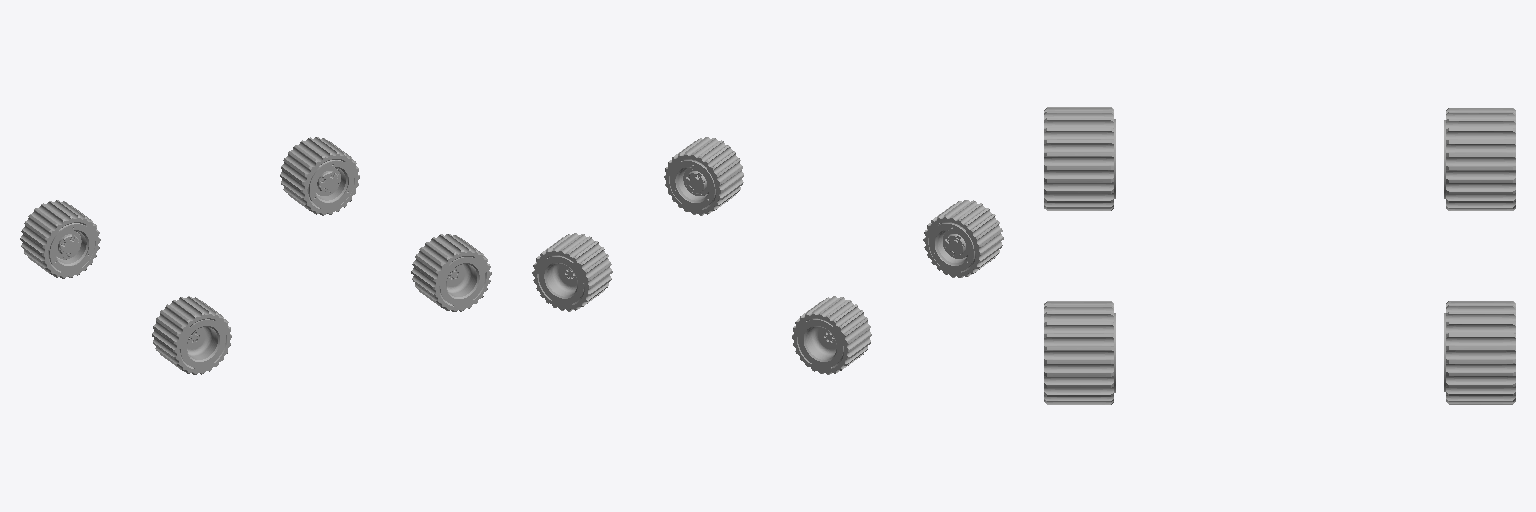
The robot description file, URDF, robot "Assembly":
<?xml version="1.0" ?>
<!-- =================================================================================== -->
<!-- |    This document was autogenerated by xacro from Assembly.xacro                 | -->
<!-- |    EDITING THIS FILE BY HAND IS NOT RECOMMENDED                                 | -->
<!-- =================================================================================== -->
<robot name="Assembly">
  <link name="base_footprint" />
  <joint name="base_footprint_joint" type="fixed">
    <parent link="base_footprint"/>
    <child link="base_link"/>
    <!-- To przesunięcie mówi Gazebo: "base_link jest 18cm nad ziemią" -->
    <origin xyz="0 0 0.18" rpy="0 0 0"/> 
  </joint>
  <material name="silver">
    <color rgba="0.700 0.700 0.700 1.000"/>
  </material>
  <transmission name="Obrot_1_tran">
    <type>transmission_interface/SimpleTransmission</type>
    <joint name="Obrot_1">
      <hardwareInterface>hardware_interface/EffortJointInterface</hardwareInterface>
    </joint>
    <actuator name="Obrot_1_actr">
      <hardwareInterface>hardware_interface/EffortJointInterface</hardwareInterface>
      <mechanicalReduction>1</mechanicalReduction>
    </actuator>
  </transmission>
  <transmission name="Obrot_2_tran">
    <type>transmission_interface/SimpleTransmission</type>
    <joint name="Obrot_2">
      <hardwareInterface>hardware_interface/EffortJointInterface</hardwareInterface>
    </joint>
    <actuator name="Obrot_2_actr">
      <hardwareInterface>hardware_interface/EffortJointInterface</hardwareInterface>
      <mechanicalReduction>1</mechanicalReduction>
    </actuator>
  </transmission>
  <transmission name="Obrot_3_tran">
    <type>transmission_interface/SimpleTransmission</type>
    <joint name="Obrot_3">
      <hardwareInterface>hardware_interface/EffortJointInterface</hardwareInterface>
    </joint>
    <actuator name="Obrot_3_actr">
      <hardwareInterface>hardware_interface/EffortJointInterface</hardwareInterface>
      <mechanicalReduction>1</mechanicalReduction>
    </actuator>
  </transmission>
  <transmission name="Obrot_4_tran">
    <type>transmission_interface/SimpleTransmission</type>
    <joint name="Obrot_4">
      <hardwareInterface>hardware_interface/EffortJointInterface</hardwareInterface>
    </joint>
    <actuator name="Obrot_4_actr">
      <hardwareInterface>hardware_interface/EffortJointInterface</hardwareInterface>
      <mechanicalReduction>1</mechanicalReduction>
    </actuator>
  </transmission>
  <!-- ===<gazebo>
    <plugin filename="libgazebo_ros_control.so" name="control"/>
  </gazebo>================================================================================ -->
  <gazebo reference="base_link">
    <material>Gazebo/Silver</material>
    <mu1>0.2</mu1>
    <mu2>0.2</mu2>
    <selfCollide>false</selfCollide>
    <gravity>true</gravity>
  </gazebo>
  <gazebo reference="Komponent390_1">
    <material>Gazebo/DarkGrey</material>
    <mu1>1.0</mu1>
    <mu2>0.1</mu2>
    <fdir1>1 0 0</fdir1> 
    <kp>10000000.0</kp>
    <kd>1.0</kd>
    <minDepth>0.001</minDepth>
    <maxVel>0.1</maxVel>
    <selfCollide>false</selfCollide>
  </gazebo>
  <gazebo reference="Komponent387_1">
    <material>Gazebo/DarkGrey</material>
    <mu1>1.0</mu1>
    <mu2>0.1</mu2>
    <fdir1>1 0 0</fdir1> 
    <kp>10000000.0</kp>
    <kd>1.0</kd>
    <minDepth>0.001</minDepth>
    <maxVel>0.1</maxVel>
    <selfCollide>false</selfCollide>
  </gazebo>
  <gazebo reference="Komponent388_1">
    <material>Gazebo/DarkGrey</material>
    <mu1>1.0</mu1>
    <mu2>0.1</mu2>
    <fdir1>1 0 0</fdir1> 
    <kp>10000000.0</kp>
    <kd>1.0</kd>
    <minDepth>0.001</minDepth>
    <maxVel>0.1</maxVel>
    <selfCollide>false</selfCollide>
  </gazebo>
  <gazebo reference="Komponent389_1">
    <material>Gazebo/DarkGrey</material>
    <mu1>1.0</mu1>
    <mu2>0.1</mu2>
    <fdir1>1 0 0</fdir1> 
    <kp>10000000.0</kp>
    <kd>1.0</kd>
    <minDepth>0.001</minDepth>
    <maxVel>0.1</maxVel>
    <selfCollide>false</selfCollide>
  </gazebo>
  <link name="base_link">
    <inertial>
      <origin rpy="0 0 0" xyz="0.0013626883253200508 8.361136291997719e-05 0.09570081394757393"/>
      <mass value="10.146617382602876"/>
      <inertia ixx="1.038602" ixy="0.063507" ixz="-0.0094" iyy="1.05519" iyz="-0.001771" izz="1.717662"/>
    </inertial>
    <visual>
      <origin rpy="0 0 0" xyz="0 0 0"/>
      <geometry>
        <mesh filename="package://assembly_description/meshes/base_link.stl" scale="0.001 0.001 0.001"/>
      </geometry>
      <material name="silver"/>
    </visual>
    <collision>
      <origin rpy="0 0 0" xyz="0 0 0.1"/>
      <geometry>
        <box size="0.9 0.5 0.2"/>
      </geometry>
    </collision>
  </link>
  <link name="Komponent390_1">
    <inertial>
      <origin rpy="0 0 0" xyz="1.7396688488102718e-06 0.07158422548093257 -3.680155703067456e-06"/>
      <mass value="3.509196383820251"/>
      <inertia ixx="0.015316" ixy="1e-06" ixz="0.0" iyy="0.020222" iyz="-1e-06" izz="0.015316"/>
    </inertial>
    <visual>
      <origin rpy="0 0 0" xyz="-0.462407 -0.333391 0.181736"/>
      <geometry>
        <mesh filename="package://assembly_description/meshes/Komponent390_1.stl" scale="0.001 0.001 0.001"/>
      </geometry>
      <material name="silver"/>
    </visual>
    <collision>
      <origin rpy="0 0 0" xyz="0 0 0"/>
      <geometry>
        <sphere radius="0.1"/>
      </geometry>
    </collision>
  </link>
  <link name="Komponent387_1">
    <inertial>
      <origin rpy="0 0 0" xyz="-2.5653229020483614e-06 -0.07158405235834175 -3.5042770395177225e-06"/>
      <mass value="3.50919641521173"/>
      <inertia ixx="0.015316" ixy="1e-06" ixz="-0.0" iyy="0.020222" iyz="1e-06" izz="0.015316"/>
    </inertial>
    <visual>
      <origin rpy="0 0 0" xyz="-0.461782 0.330009 0.182625"/>
      <geometry>
        <mesh filename="package://assembly_description/meshes/Komponent387_1.stl" scale="0.001 0.001 0.001"/>
      </geometry>
      <material name="silver"/>
    </visual>
    <collision>
      <origin rpy="0 0 0" xyz="0 0 0"/>
      <geometry>
	<sphere radius="0.1"/>
      </geometry>
    </collision>
  </link>
  <link name="Komponent388_1">
    <inertial>
      <origin rpy="0 0 0" xyz="2.521271106392664e-06 0.07158422285030919 -3.6801312563450317e-06"/>
      <mass value="3.509196938643843"/>
      <inertia ixx="0.015316" ixy="1e-06" ixz="0.0" iyy="0.020223" iyz="-1e-06" izz="0.015316"/>
    </inertial>
    <visual>
      <origin rpy="0 0 0" xyz="0.460769 -0.333391 0.181736"/>
      <geometry>
        <mesh filename="package://assembly_description/meshes/Komponent388_1.stl" scale="0.001 0.001 0.001"/>
      </geometry>
      <material name="silver"/>
    </visual>
    <collision>
      <origin rpy="0 0 0" xyz="0 0 0"/>
      <geometry>
	<sphere radius="0.1"/>
      </geometry>
    </collision>
  </link>
  <link name="Komponent389_1">
    <inertial>
      <origin rpy="0 0 0" xyz="-2.069141749050374e-06 -0.07158405236339799 -3.6457523256427926e-06"/>
      <mass value="3.509196414812441"/>
      <inertia ixx="0.015316" ixy="1e-06" ixz="-0.0" iyy="0.020222" iyz="1e-06" izz="0.015316"/>
    </inertial>
    <visual>
      <origin rpy="0 0 0" xyz="0.461392 0.330009 0.180846"/>
      <geometry>
        <mesh filename="package://assembly_description/meshes/Komponent389_1.stl" scale="0.001 0.001 0.001"/>
      </geometry>
      <material name="silver"/>
    </visual>
    <collision>
      <origin rpy="0 0 0" xyz="0 0 0"/>
      <geometry>
	<sphere radius="0.1"/>
      </geometry>
    </collision>
  </link>
  <joint name="Obrot_1" type="continuous">
    <origin rpy="0 0 0" xyz="0.462407 0.333391 -0.181736"/>
    <parent link="base_link"/>
    <child link="Komponent390_1"/>
    <axis xyz="0.0 1.0 0.0"/>
  </joint>
  <joint name="Obrot_2" type="continuous">
    <origin rpy="0 0 0" xyz="0.461782 -0.330009 -0.182625"/>
    <parent link="base_link"/>
    <child link="Komponent387_1"/>
    <axis xyz="-0.0 1.0 -0.0"/>
  </joint>
  <joint name="Obrot_3" type="continuous">
    <origin rpy="0 0 0" xyz="-0.460769 0.333391 -0.181736"/>
    <parent link="base_link"/>
    <child link="Komponent388_1"/>
    <axis xyz="0.0 1.0 -0.0"/>
  </joint>
  <joint name="Obrot_4" type="continuous">
    <origin rpy="0 0 0" xyz="-0.461392 -0.330009 -0.180846"/>
    <parent link="base_link"/>
    <child link="Komponent389_1"/>
    <axis xyz="-0.0 1.0 0.0"/>
  </joint>
  <gazebo>
    <plugin filename="libignition-gazebo-diff-drive-system.so" name="ignition::gazebo::systems::DiffDrive">
      <left_joint>Obrot_1</left_joint>
      <left_joint>Obrot_3</left_joint>
      <right_joint>Obrot_2</right_joint>
      <right_joint>Obrot_4</right_joint>
      
      <wheel_separation>0.663</wheel_separation>
      <wheel_radius>0.1</wheel_radius> 
      <odom_publish_frequency>30</odom_publish_frequency>
      <topic>/cmd_vel</topic>
    </plugin>
  </gazebo>
</robot>

--- Render facts (derived) ---
Views: 3 orthographic renders of the robot side by side, from view 1: azimuth 30°, elevation 25°; view 2: azimuth 150°, elevation 25°; view 3: azimuth 270°, elevation 25°.
Robot: Assembly — 6 links, 5 joints (4 continuous, 1 fixed); root link base_footprint; default pose: every joint at zero.
Links seen in each view (by area): view 1: Komponent388_1, Komponent387_1, Komponent390_1, Komponent389_1; view 2: Komponent387_1, Komponent390_1, Komponent388_1, Komponent389_1; view 3: Komponent387_1, Komponent389_1, Komponent390_1, Komponent388_1.
Link boxes in pixels (x1=…): Komponent388_1: x1=20, y1=200, x2=100, y2=278; Komponent387_1: x1=411, y1=234, x2=491, y2=311; Komponent390_1: x1=280, y1=137, x2=359, y2=215; Komponent389_1: x1=152, y1=296, x2=231, y2=374; Komponent387_1: x1=664, y1=137, x2=743, y2=215; Komponent390_1: x1=532, y1=233, x2=612, y2=311; Komponent388_1: x1=792, y1=296, x2=871, y2=374; Komponent389_1: x1=923, y1=200, x2=1003, y2=277; Komponent387_1: x1=1044, y1=301, x2=1115, y2=404; Komponent389_1: x1=1044, y1=107, x2=1115, y2=210; Komponent390_1: x1=1444, y1=301, x2=1515, y2=404; Komponent388_1: x1=1444, y1=108, x2=1515, y2=210.
Size in the robot's own frame: 1.13 by 0.9514 by 0.2118 metres.
4 mesh visuals loaded from 5 distinct referenced files (4 binary STL); not drawn: 1 (reference not matched to a file when rendering).
